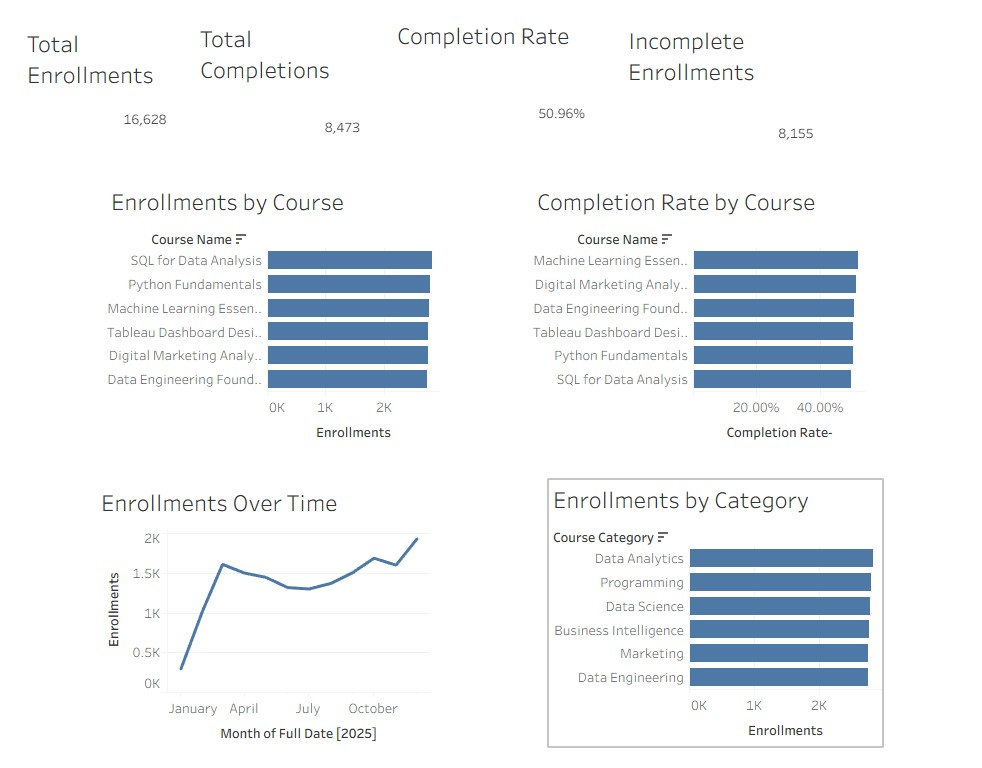

The page's visual inventory and layout, read from the dashboard file:
{"tool":"tableau","page":{"name":"Course Performance(d4)","canvas":[1000,800],"ordinal":1},"visuals":[{"type":"worksheet","title":"Completion Rate","mark":"Automatic","box":[403,25,196,148]},{"type":"worksheet","title":"Total Completions","mark":"Automatic","box":[206,28,168,138]},{"type":"worksheet","title":"Incomplete Enrollments","mark":"Automatic","box":[634,30,193,147]},{"type":"worksheet","title":"Total Enrollments","mark":"Text","box":[33,33,147,113]},{"type":"worksheet","title":"Enrollments by Course","mark":"Bar","rows":["COURSE_NAME"],"cols":["ENROLLMENTS"],"box":[117,191,333,266]},{"type":"worksheet","title":"Completion Rate by Course","mark":"Bar","rows":["COURSE_NAME"],"cols":["Calculation_2861786709417985"],"box":[543,191,333,266]},{"type":"worksheet","title":"Enrollments by Category","mark":"Bar","rows":["COURSE_CATEGORY"],"cols":["ENROLLMENTS"],"box":[559,489,333,266]},{"type":"worksheet","title":"Enrollments Over Time","mark":"Line","rows":["ENROLLMENTS"],"cols":["FULL_DATE"],"box":[107,492,333,266]}]}

Visuals, with their boxes in screenshot pixels (x1, y1, x2, y2), scaled from the page's 1000x800 canvas onto the 982x768 screenshot:
"Completion Rate" worksheet: <box>396,24,588,166</box>
"Total Completions" worksheet: <box>202,27,367,159</box>
"Incomplete Enrollments" worksheet: <box>623,29,812,170</box>
"Total Enrollments" worksheet (Text marks): <box>32,32,177,140</box>
"Enrollments by Course" worksheet (Bar marks): <box>115,183,442,439</box>
"Completion Rate by Course" worksheet (Bar marks): <box>533,183,860,439</box>
"Enrollments by Category" worksheet (Bar marks): <box>549,469,876,725</box>
"Enrollments Over Time" worksheet (Line marks): <box>105,472,432,728</box>
